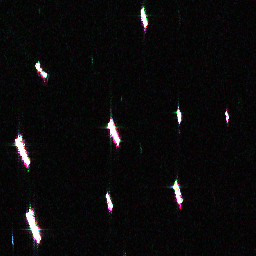ship: (22, 208, 44, 244), (11, 134, 33, 169), (103, 117, 123, 147), (171, 179, 185, 206), (103, 190, 116, 213), (33, 60, 49, 78), (138, 6, 150, 28), (175, 107, 183, 124), (223, 110, 230, 122)
